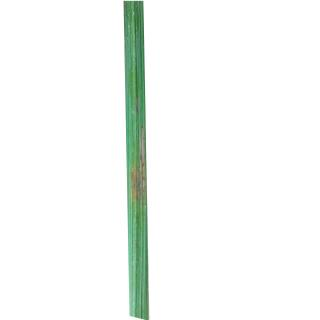Blast: (132, 110, 146, 207)
